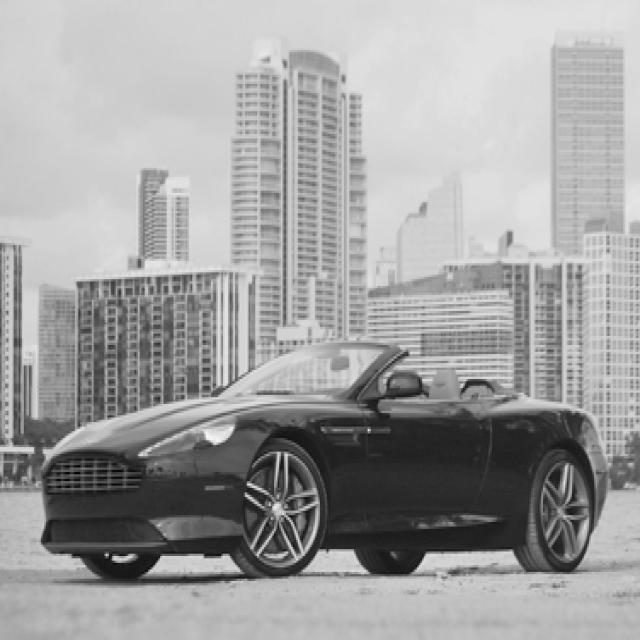car: (40, 338, 610, 579)
